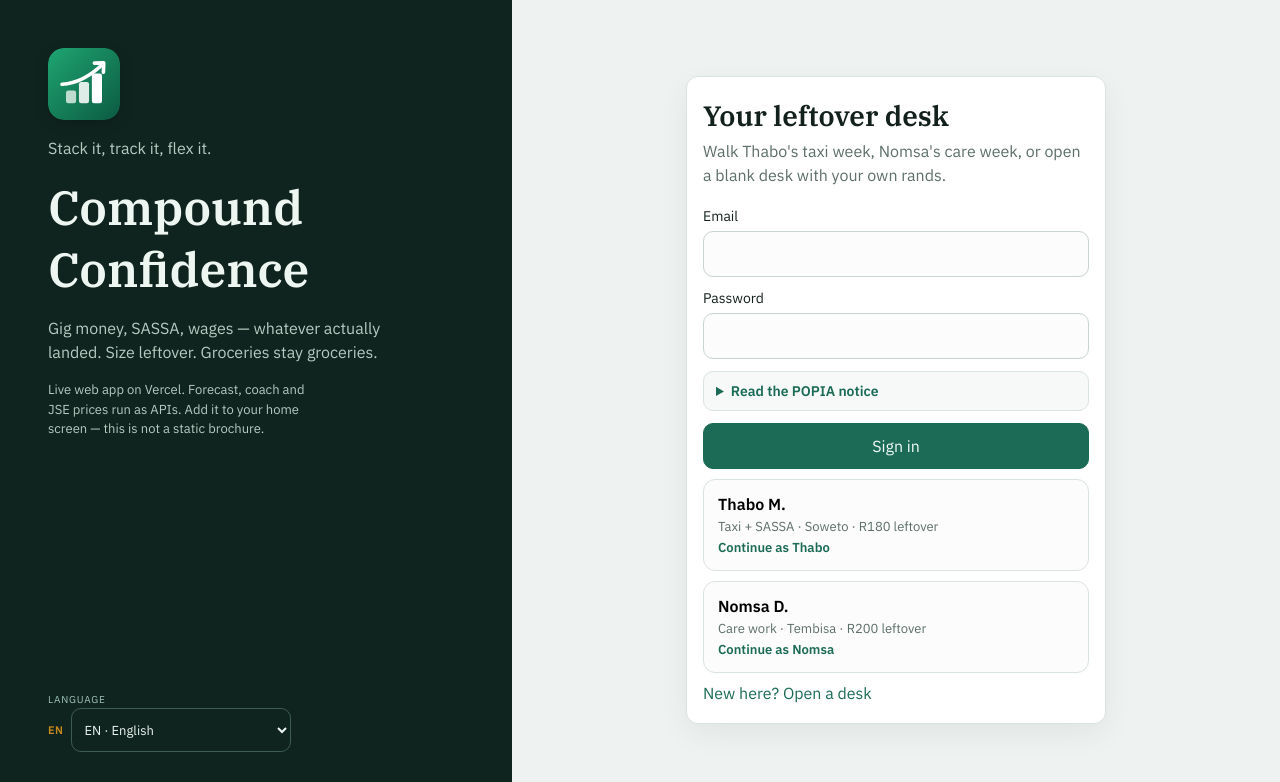
Test: Compound Confidence dashboard › blocks moving more than the balance
Step 1. Click the button with test id "demo-login" → (896,525), box [703,479,1089,571]
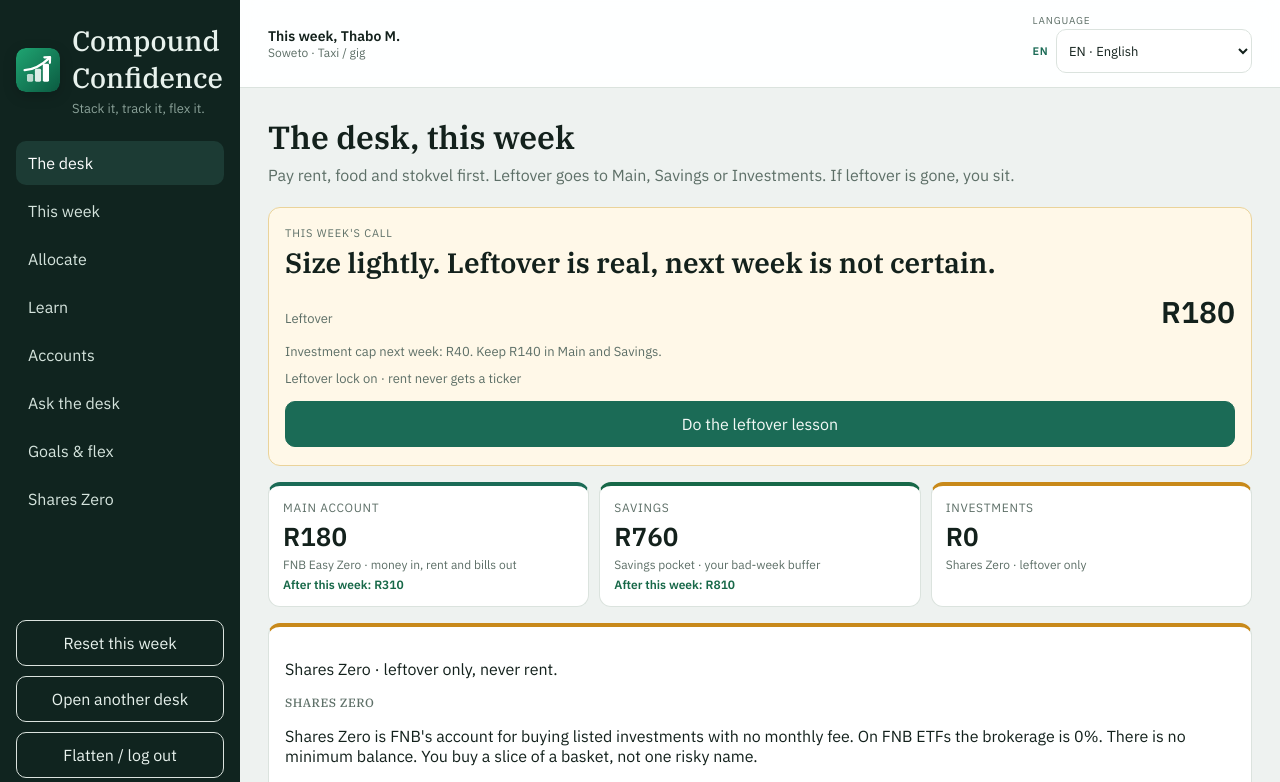
Step 2. Click the button with test id "account-main" → (331,507), box [268,482,589,607]
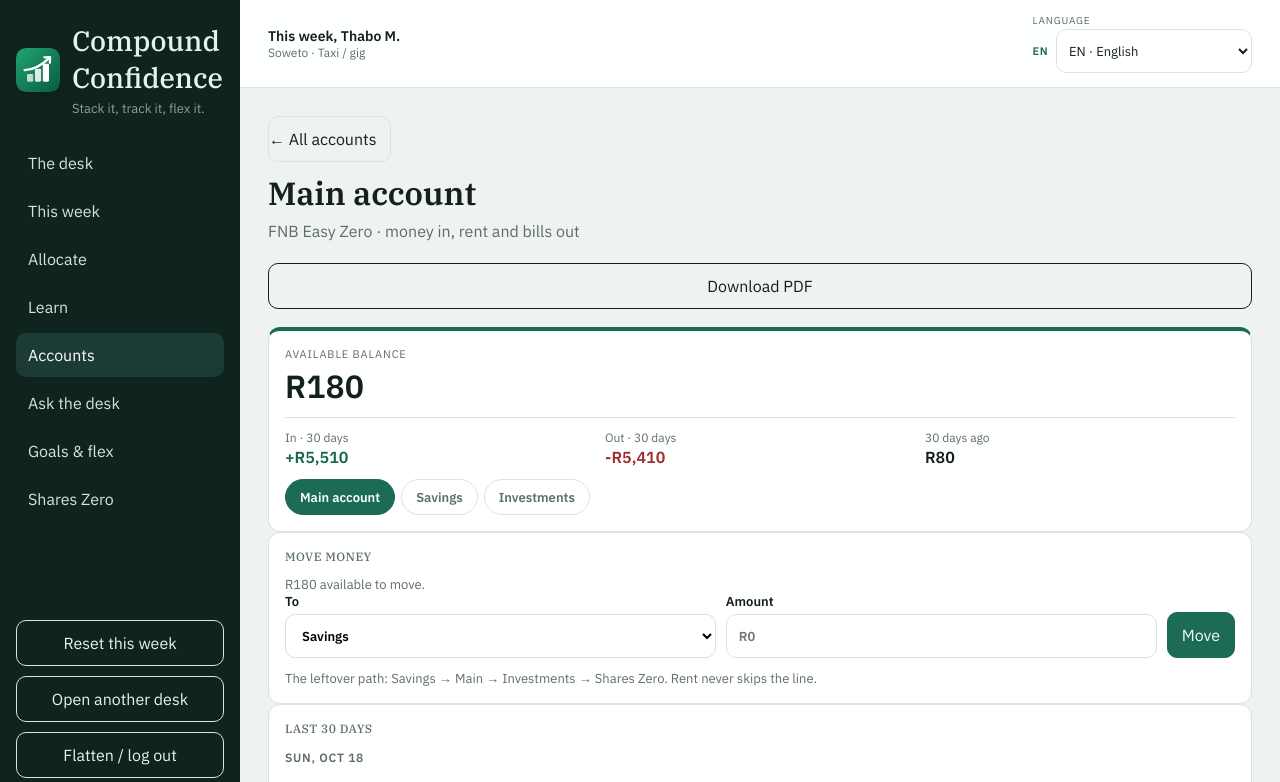
Step 3. Type "5000" into the number field labelled "Amount" → (941,636), box [726,614,1157,658]
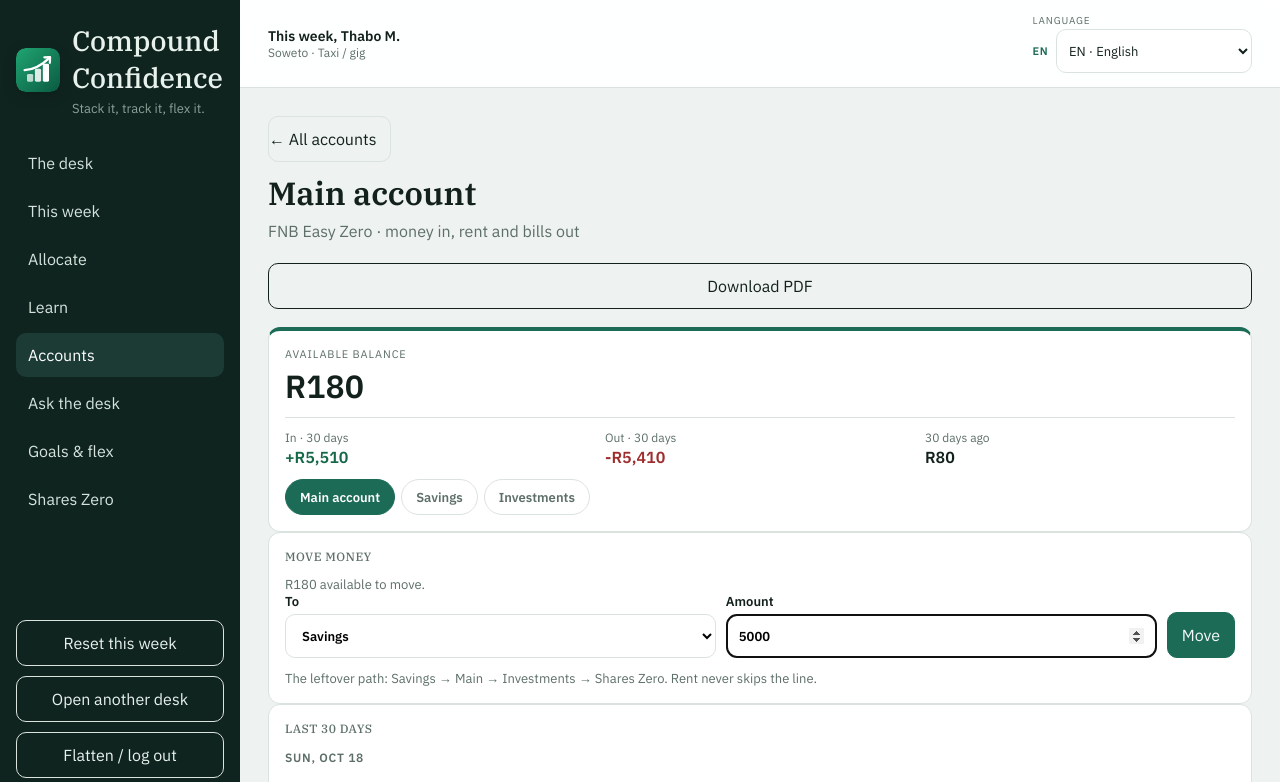
Step 4. Click the button "Move" → (1201,635), box [1167,612,1235,658]
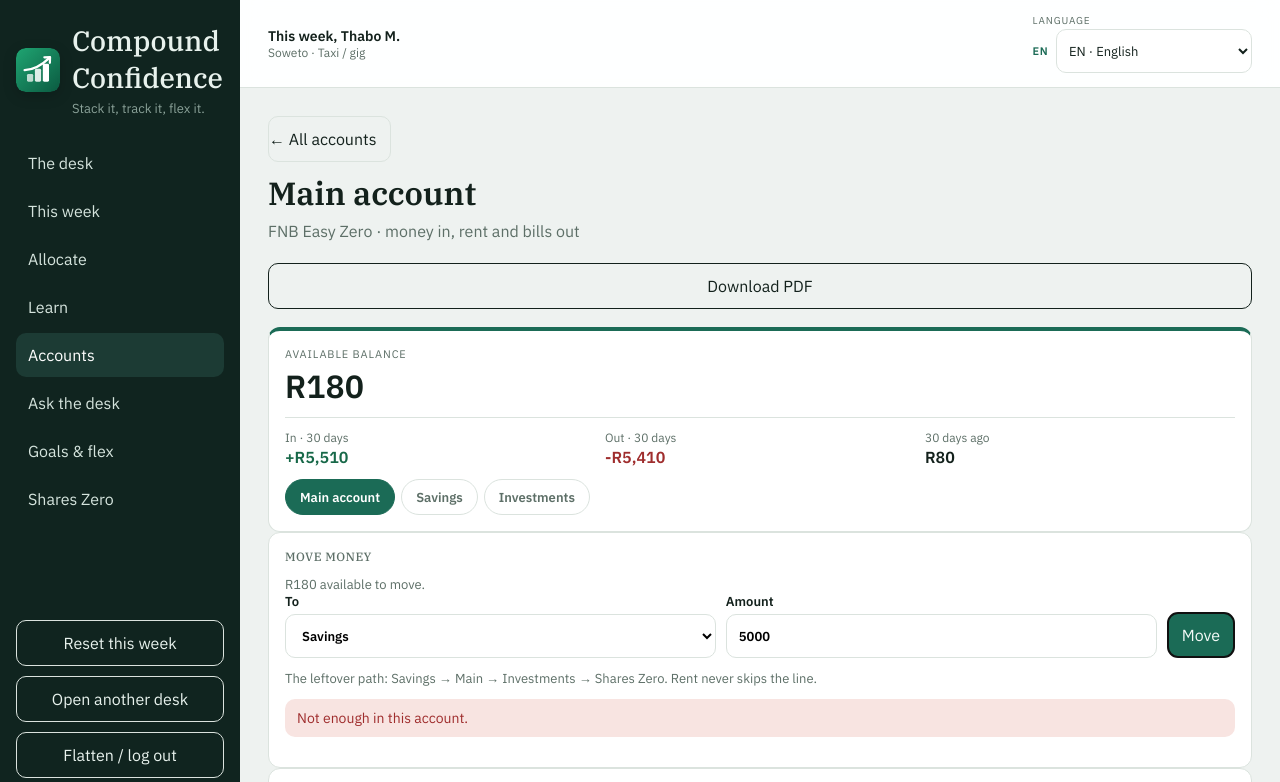
Expected: the text with test id "detail-balance" reads "R180", [285,365,364,407]
Expected: the message with test id "move-status" shows "Not enough", [297,709,468,727]
